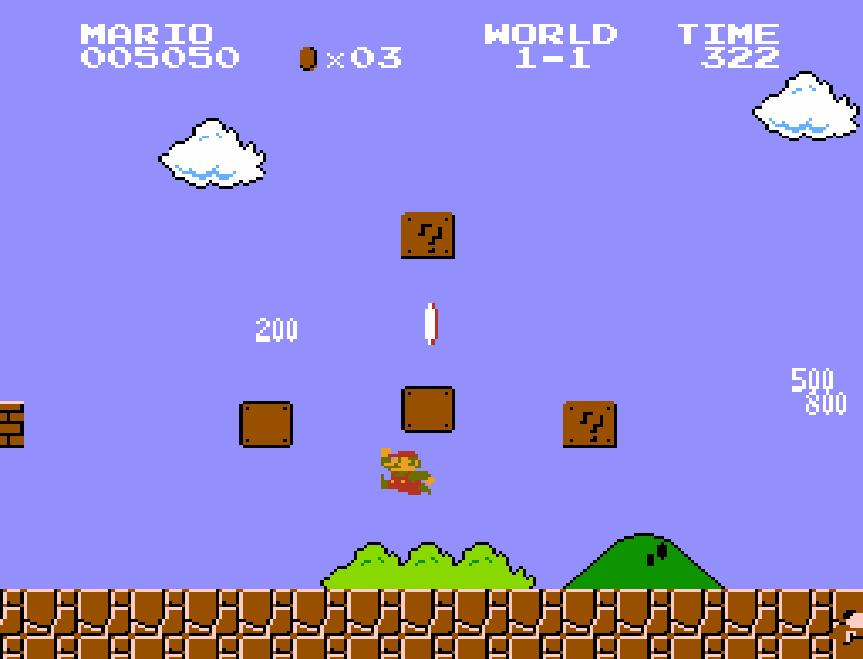little_mario: (379, 446, 437, 496)
